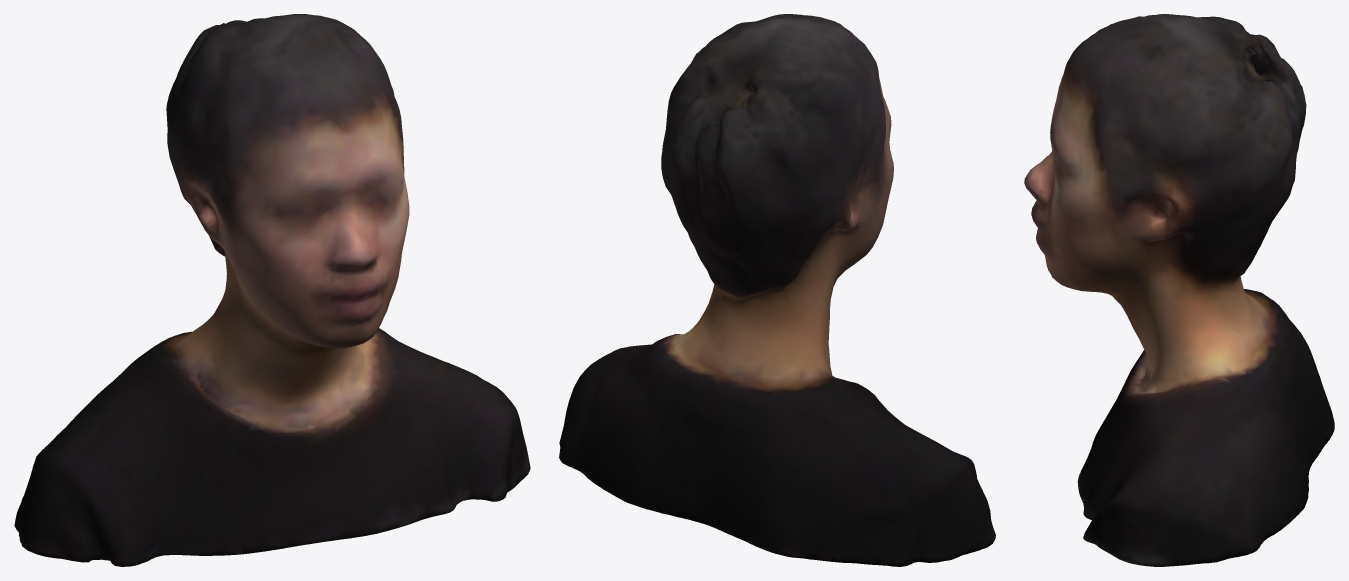
The model's file is TEXTURED_Chang_LiWen.obj.
The picture shows the model from 3 angles, left to right: view 1: azimuth 30°, elevation 25°; view 2: azimuth 150°, elevation 25°; view 3: azimuth 270°, elevation 25°; orthographic projection. The views are drawn at different scales.
Bounding box in the file's own units: 42.89 × 42.22 × 26.6.
